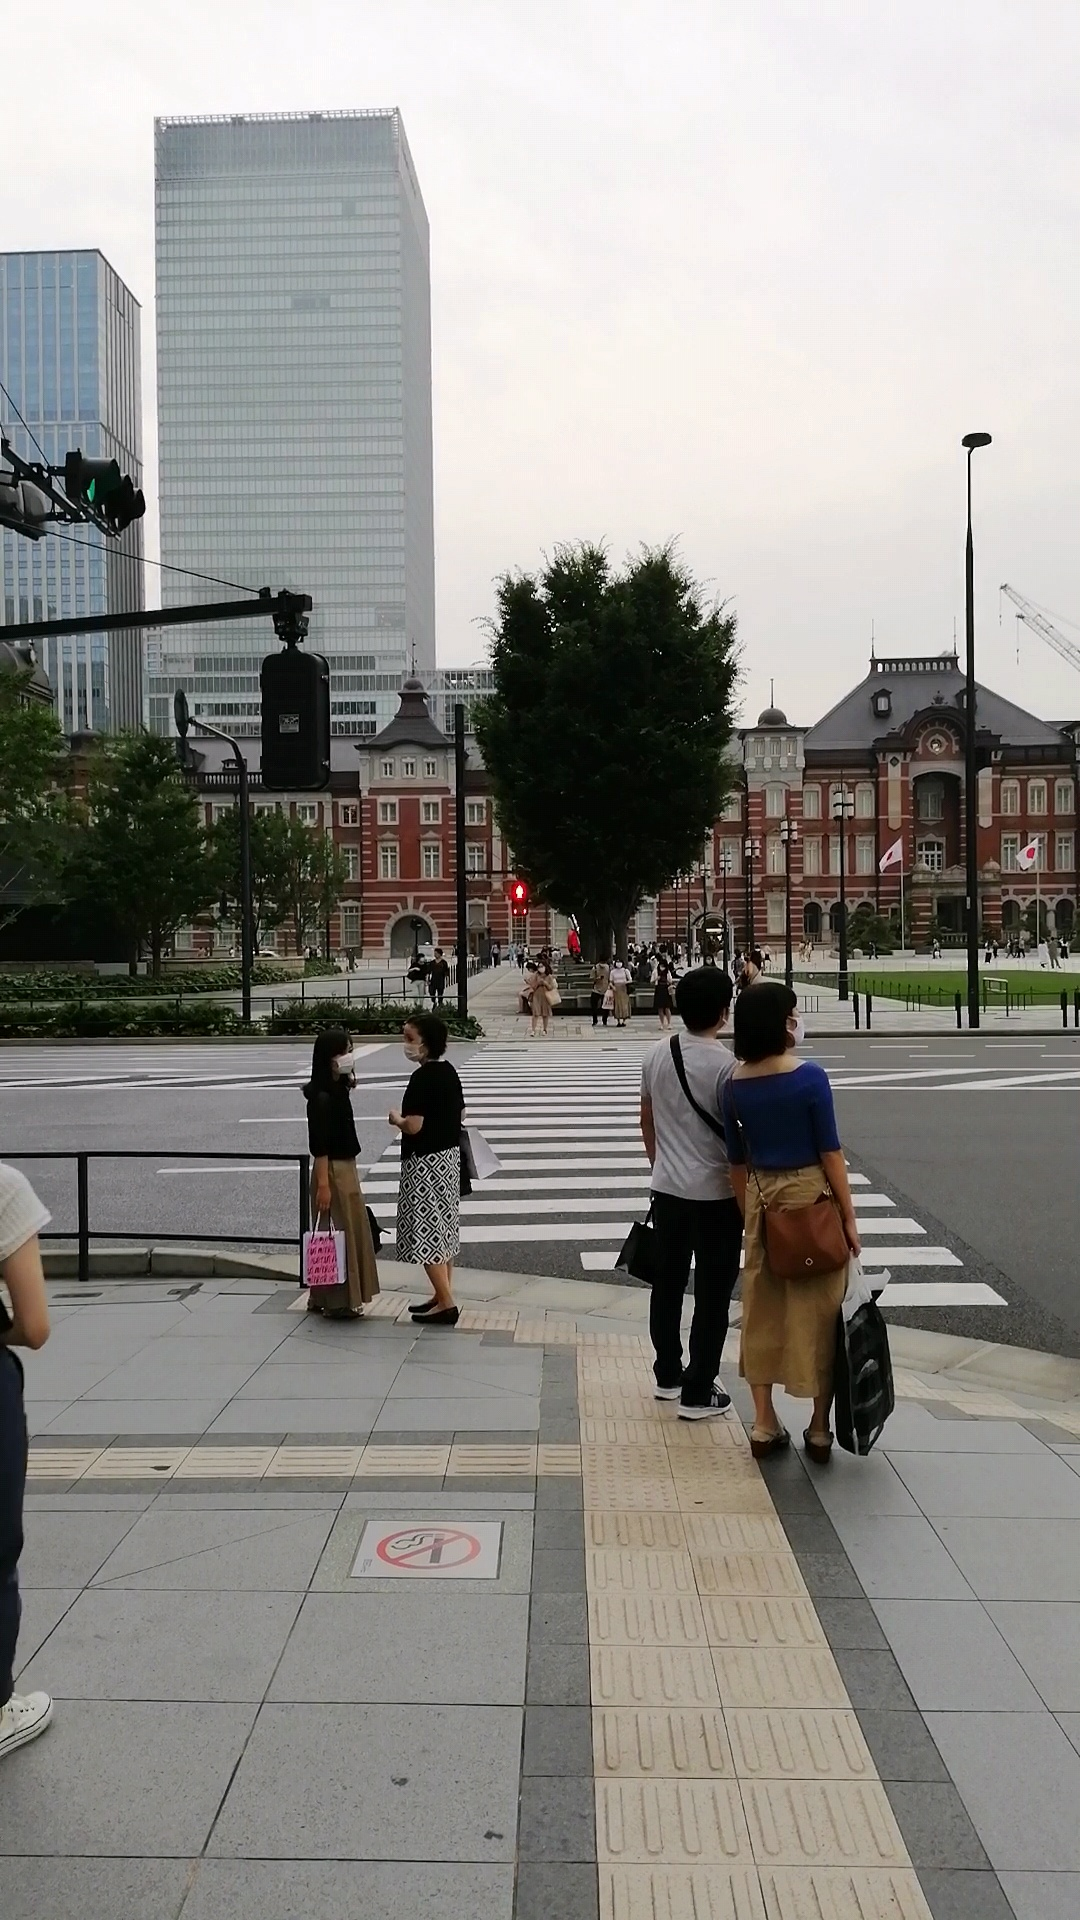red: (508, 880, 530, 918)
